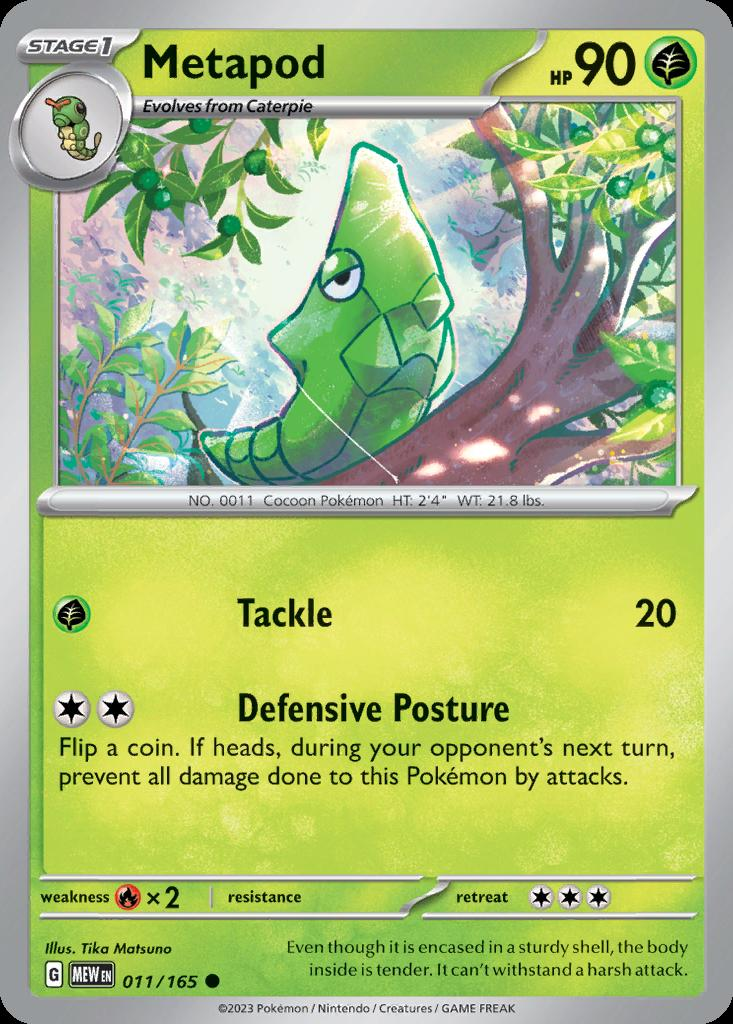card: (4, 3, 733, 1024)
hp: (549, 23, 700, 94)
name: (137, 41, 339, 89)
set num: (126, 966, 203, 996)
set symbol: (67, 960, 119, 994)
